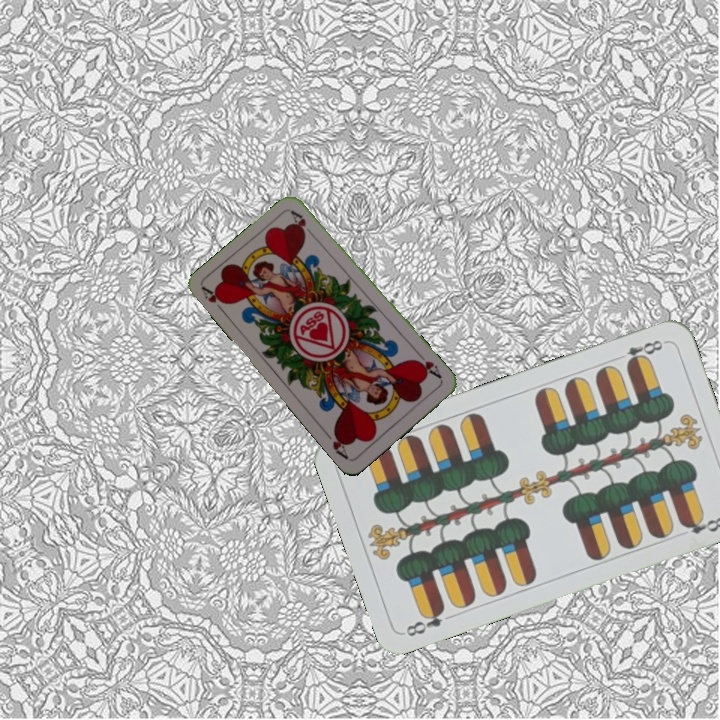E8: (611, 335, 668, 369), (401, 602, 448, 639)
HA: (411, 349, 445, 382), (198, 283, 229, 318)
